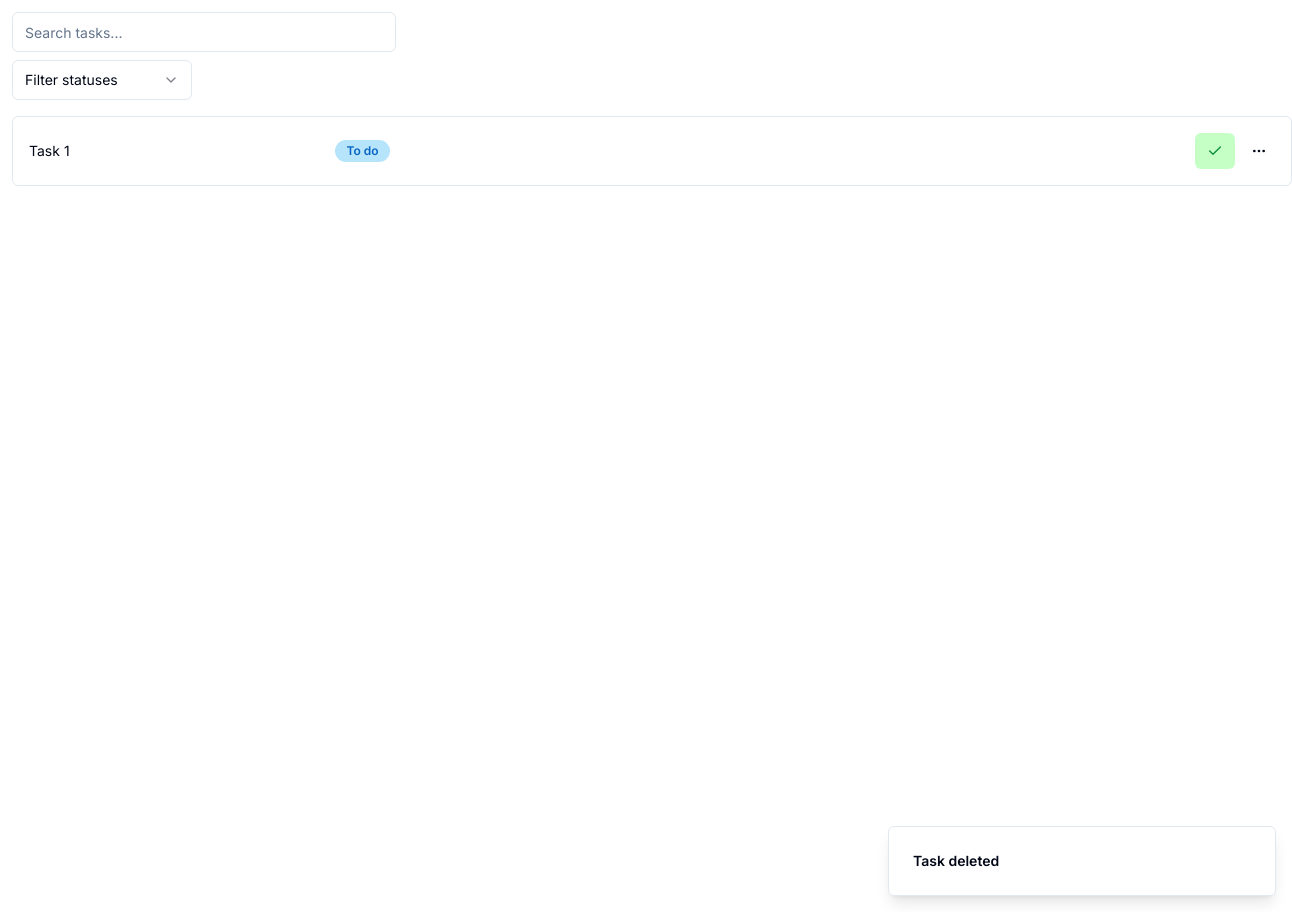
Scenario: TaskTable › actions › has link to edit task
The image size is (1292, 912).
Click the 2nd button named "Open menu".
click(1259, 151)  # box x1=1243 y1=135 x2=1275 y2=167
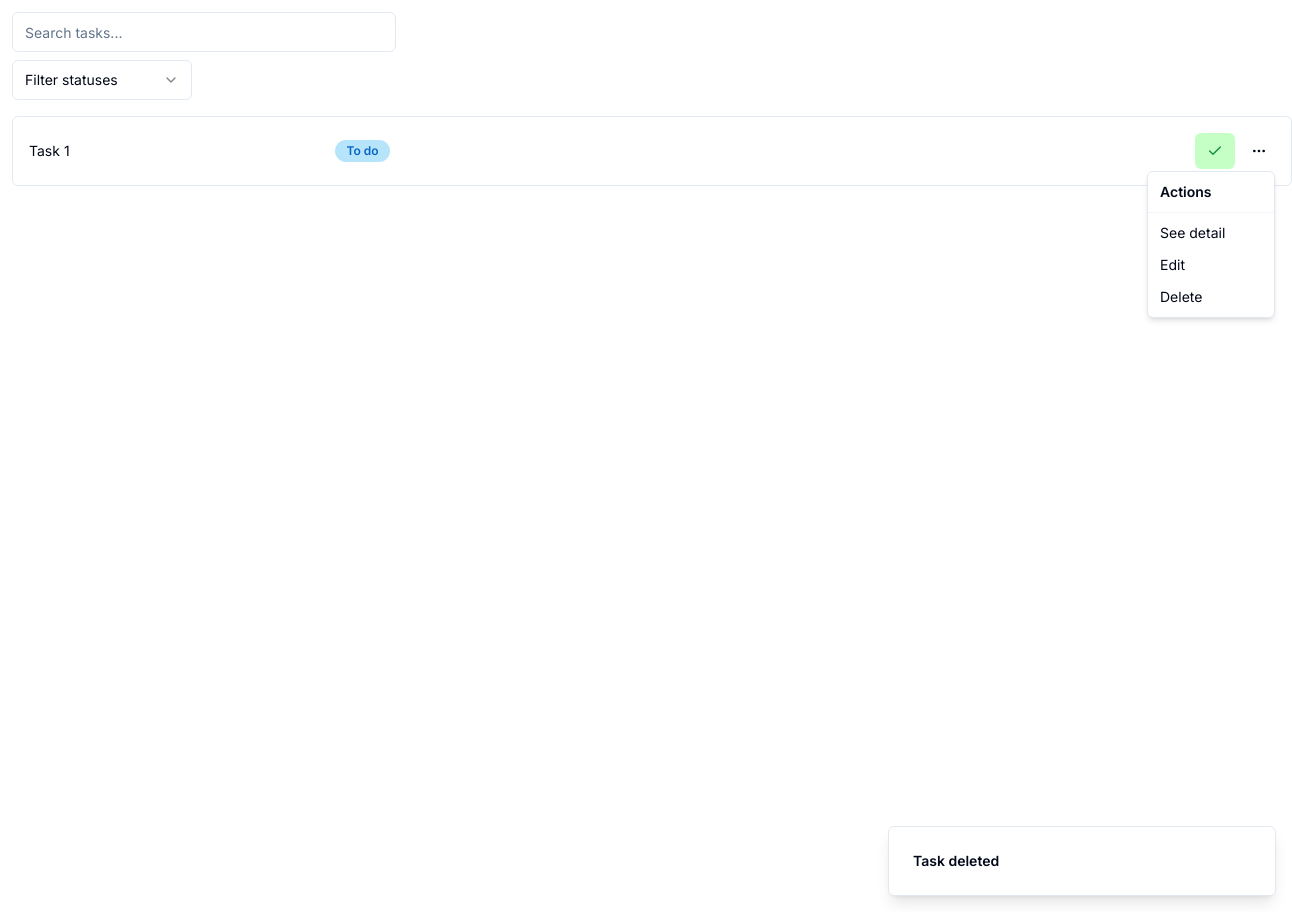
Result: the menu item "Edit" is shown at x1=1160 y1=256 x2=1185 y2=273
